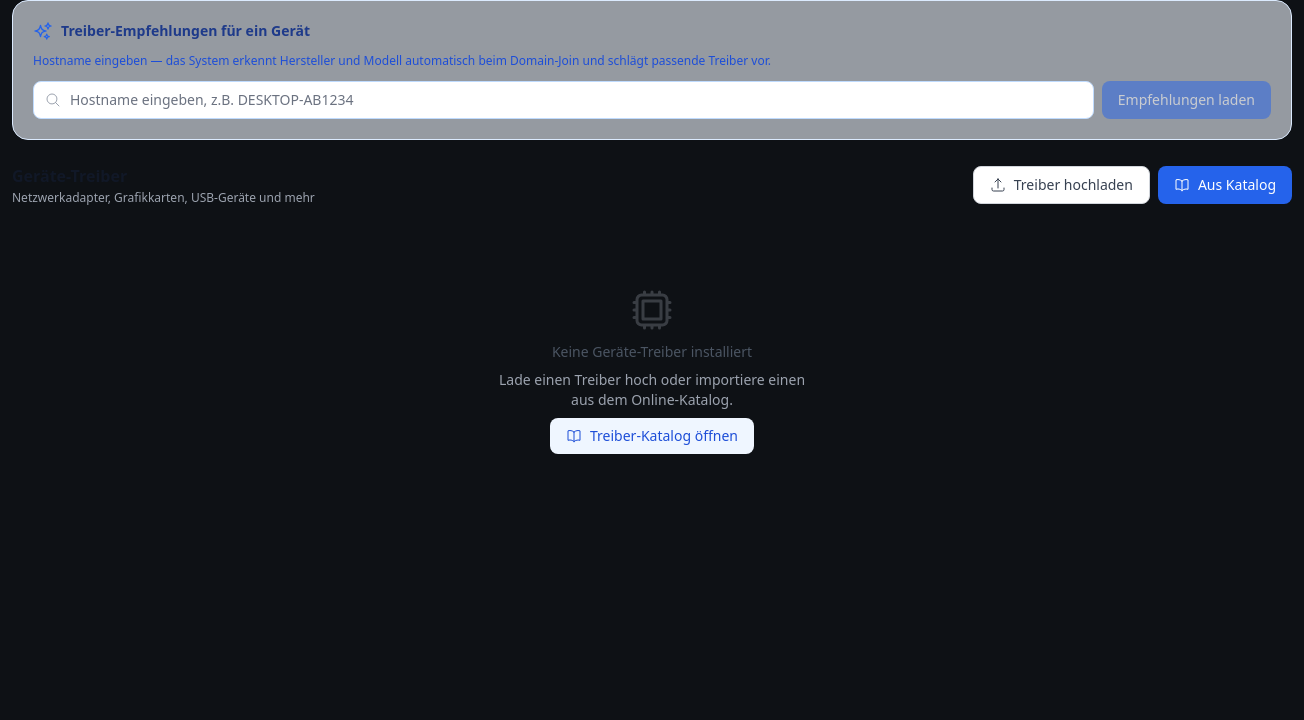
Test: DeviceDriversTab › importing a recommendation posts to import-url and flips the button to "Importiert"
The width and height of the screenshot is (1304, 720).
Expected: the text "Keine Geräte-Treiber installiert" is shown, [552, 342, 752, 362]
Step 1. Type "host1" into the field with placeholder "Hostname eingeben, z.B. DESKTOP-AB1234" → (563, 100), box [33, 81, 1094, 119]
Then press Enter
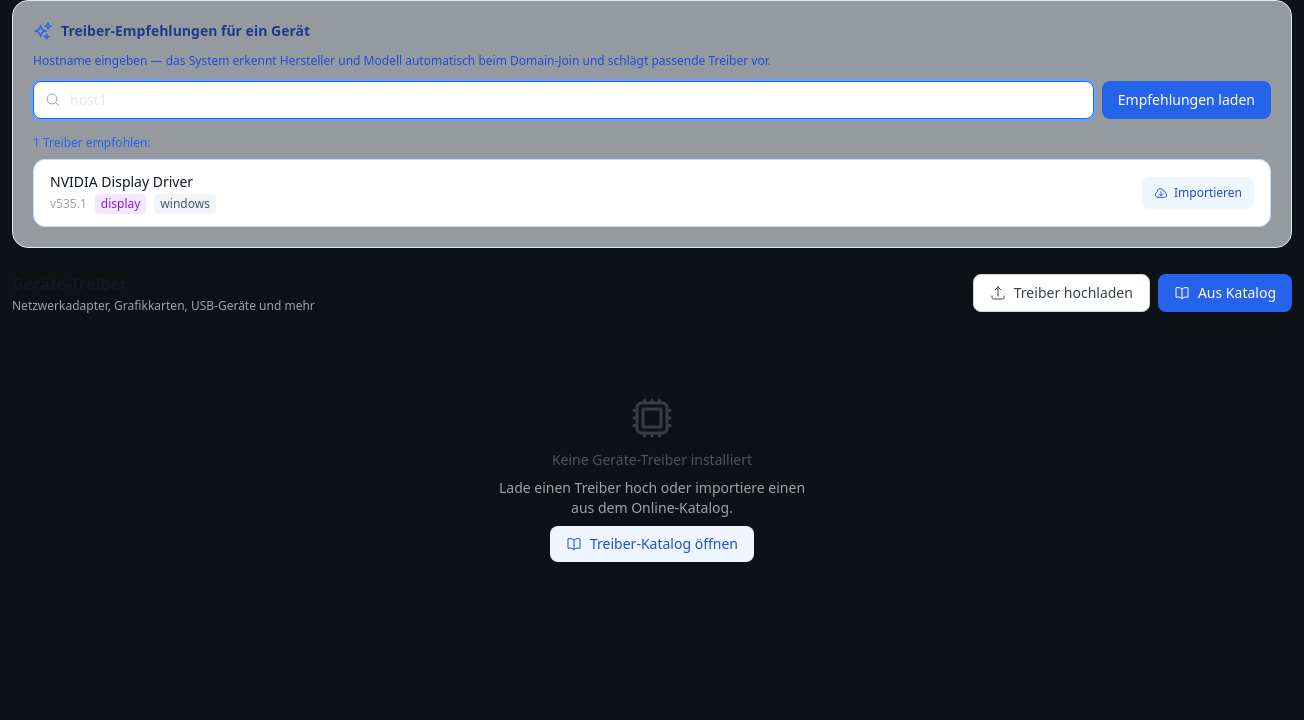
Expected: the text "NVIDIA Display Driver" is shown, [50, 172, 193, 191]
Step 2. Click the button "Importieren" → (1198, 193), box [1142, 177, 1254, 209]
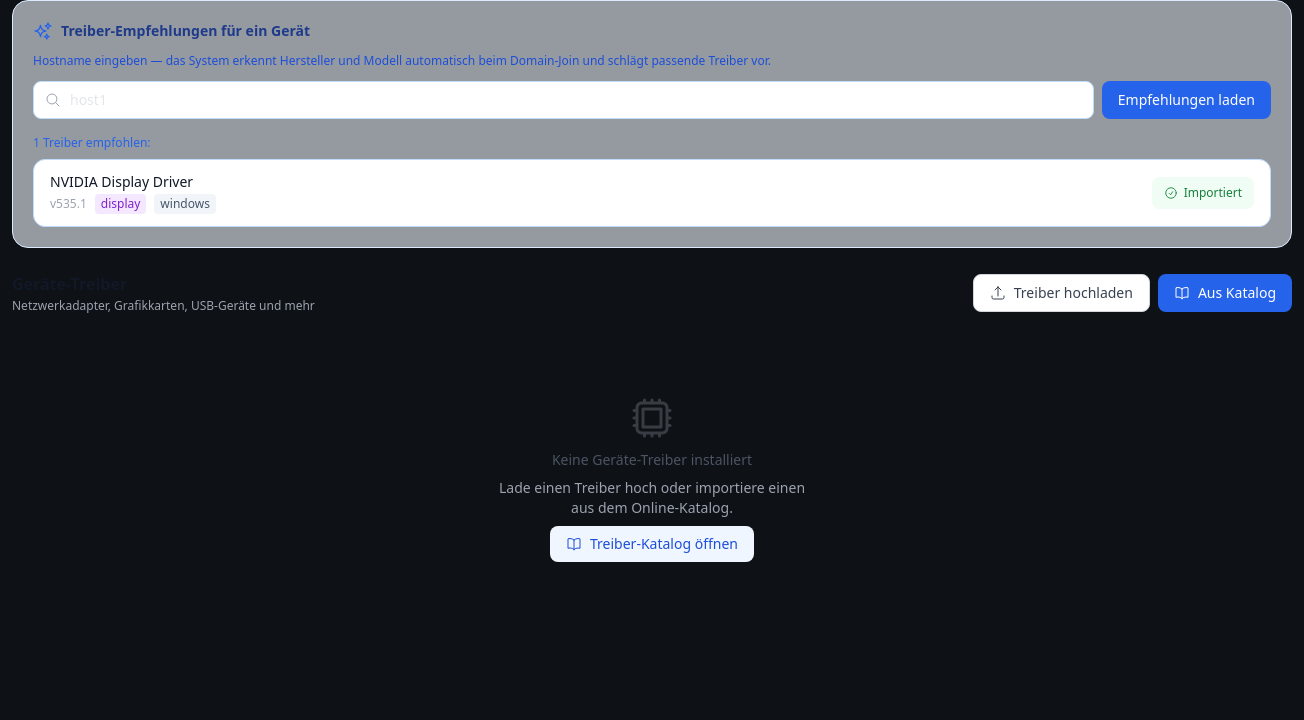
Expected: the button "Importiert" is disabled, [1152, 177, 1254, 209]
